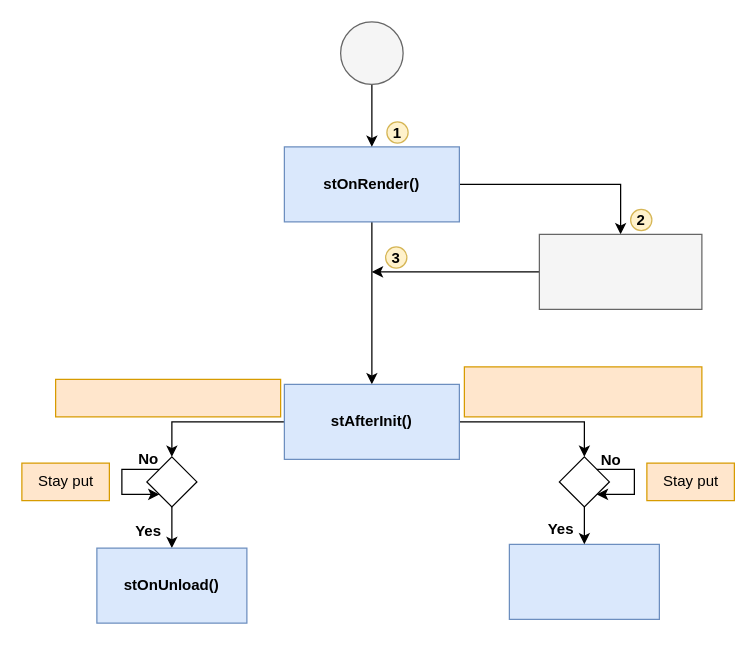
Some shapes in this 756 by 645 pixel diagram are drawn without their labels. The shapes that lost their labels are listed below. From the top down, each one's centre as x and y in pixels, then its label:
At (451,53): "Component instantiation".
At (620,271): "Render in the App Container".
At (167,397): "Is component being distroyed".
At (582,391): "component state was updated itself or by another component".
At (583,581): "stOnUpdate()".
